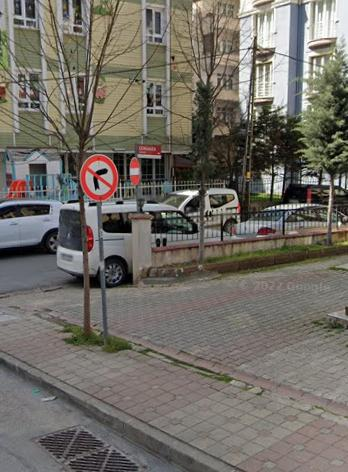rightturnsareforbidden: (81, 154, 119, 200)
